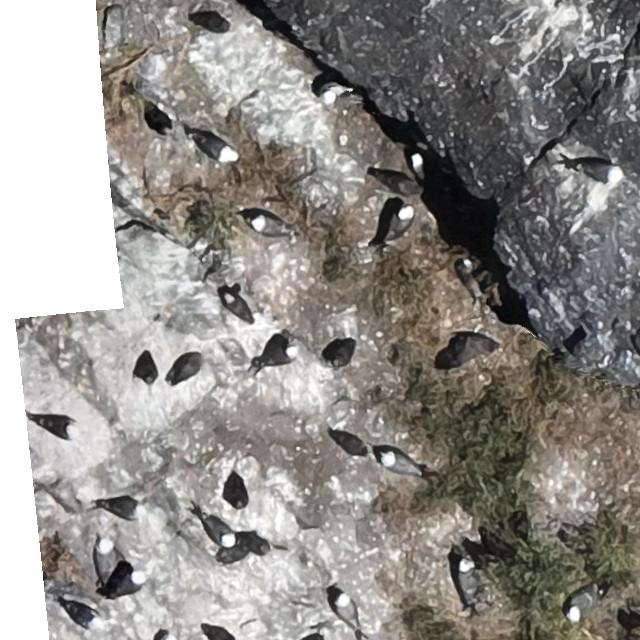umineko: (191, 503, 236, 547), (30, 411, 80, 439), (382, 451, 422, 477), (93, 535, 114, 582), (255, 345, 297, 368), (568, 587, 598, 619), (113, 569, 147, 596), (576, 161, 619, 182), (198, 135, 234, 159), (387, 209, 413, 242), (68, 603, 101, 628), (103, 499, 143, 519), (458, 559, 477, 599), (319, 82, 352, 105), (252, 217, 285, 237), (335, 595, 355, 628), (226, 294, 250, 321), (411, 154, 434, 182), (196, 15, 230, 33), (205, 626, 236, 640)
